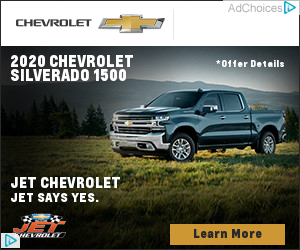fake_button: (161, 214, 287, 250)
